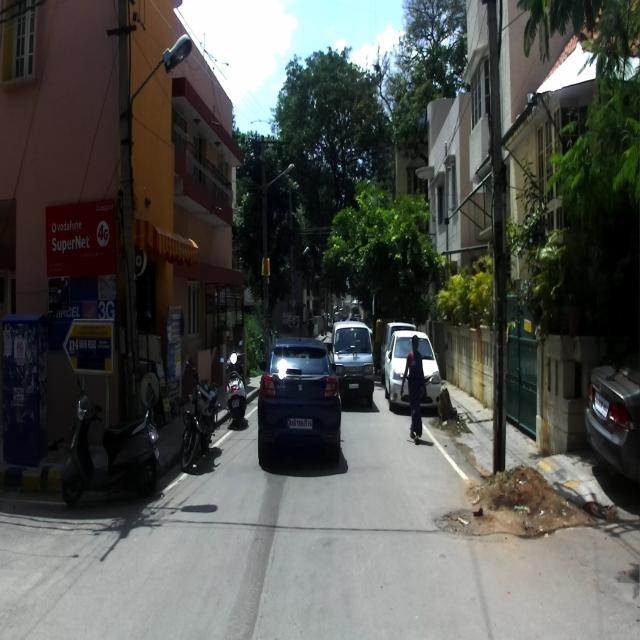Car_Maruti-Suzuki: (257, 332, 342, 469), (330, 320, 376, 412)
Car_Toyota: (383, 330, 442, 412)
motorcycle_bajaj: (178, 358, 221, 469)
scooter: (59, 373, 161, 507), (218, 340, 248, 432)
